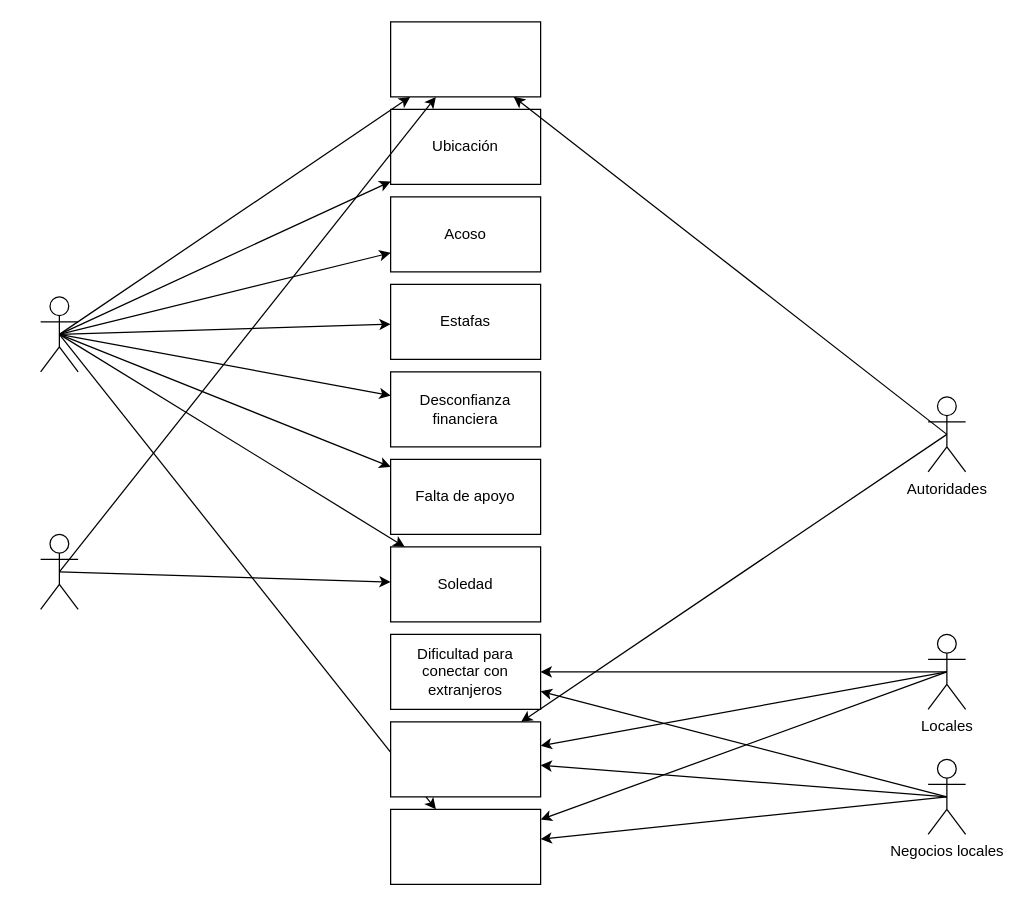
Some shapes in this 1025 by 906 pixel diagram are drawn without their labels. Each missing label, with the centre of its shape:
"Economía afectada" belongs at (x=465, y=846).
"Extranjeros" belongs at (x=58, y=334).
"Familiares" belongs at (x=58, y=571).
"Impacto en la reputación" belongs at (x=465, y=759).
"Seguridad" belongs at (x=465, y=59).
